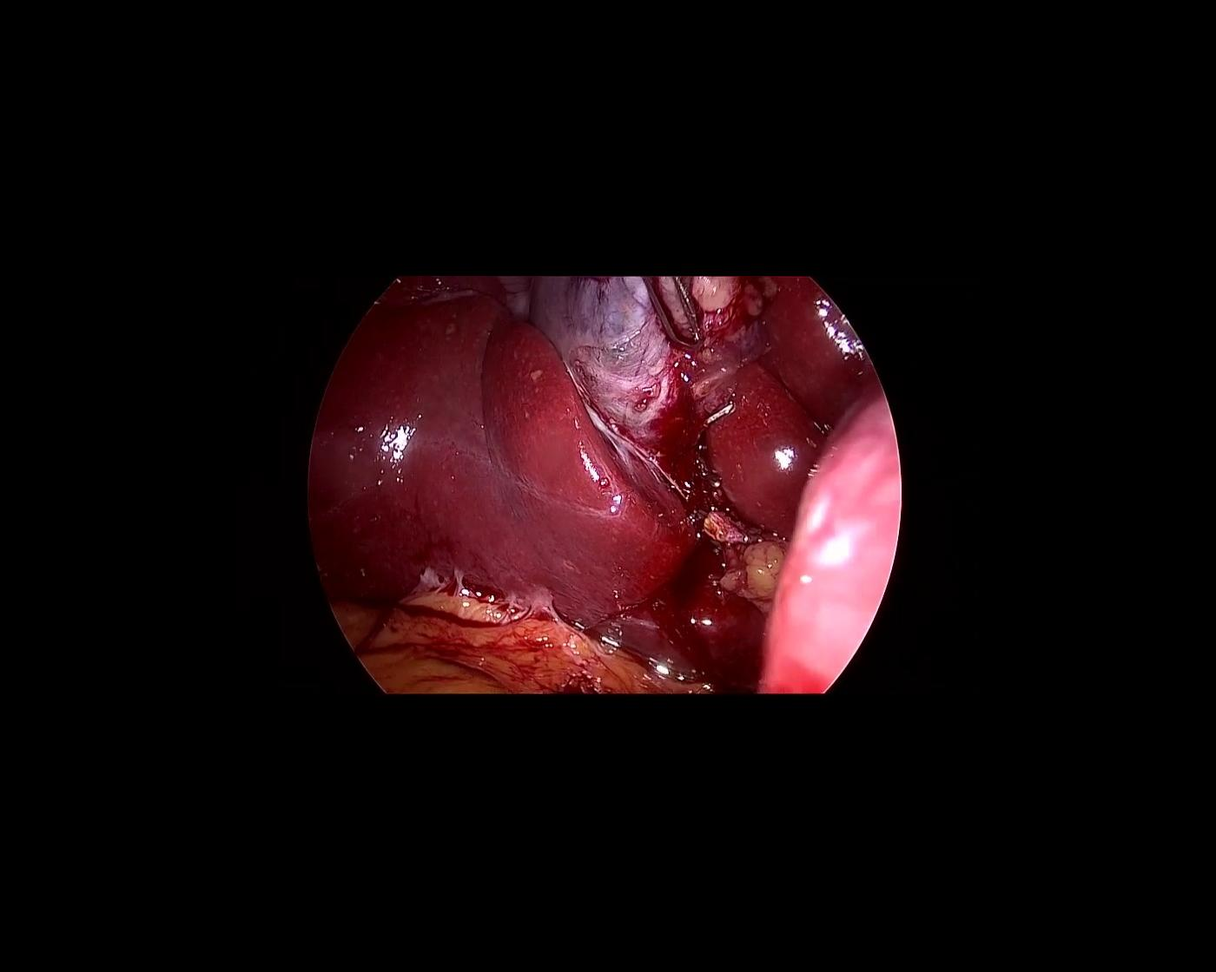Forceps: (642, 266, 706, 357)
Gallbladder: (502, 276, 777, 470)
Liver: (287, 251, 731, 652), (671, 264, 900, 547)
